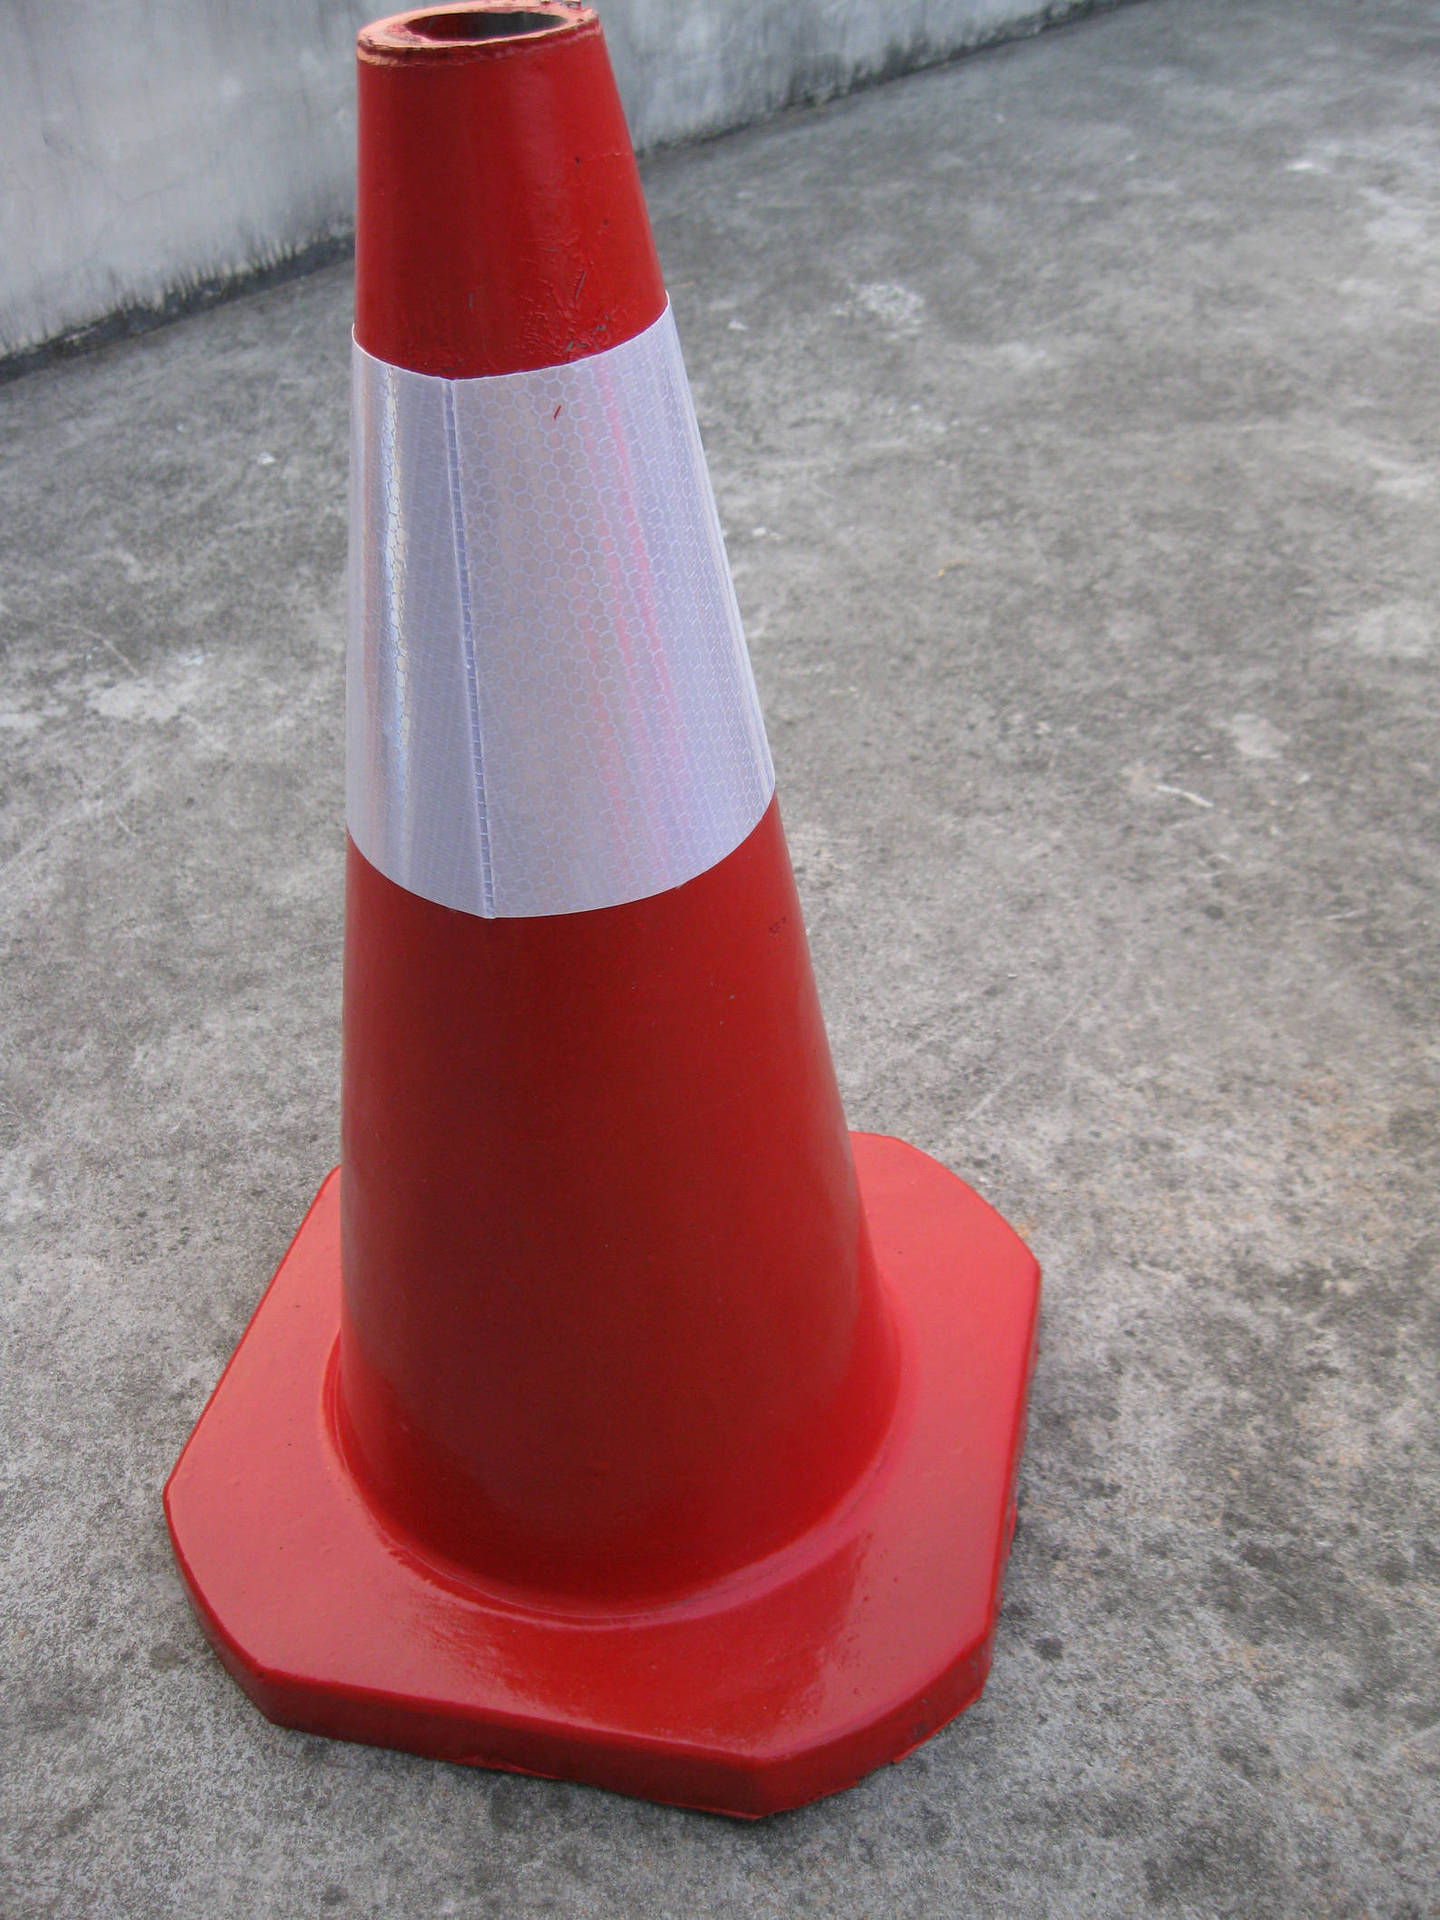traffic_cone: (163, 2, 1100, 1823)
